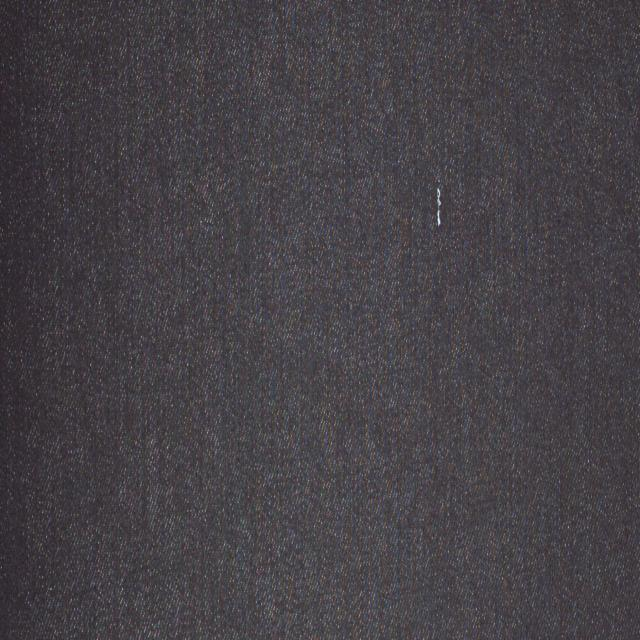Knot: (436, 185, 441, 226)
